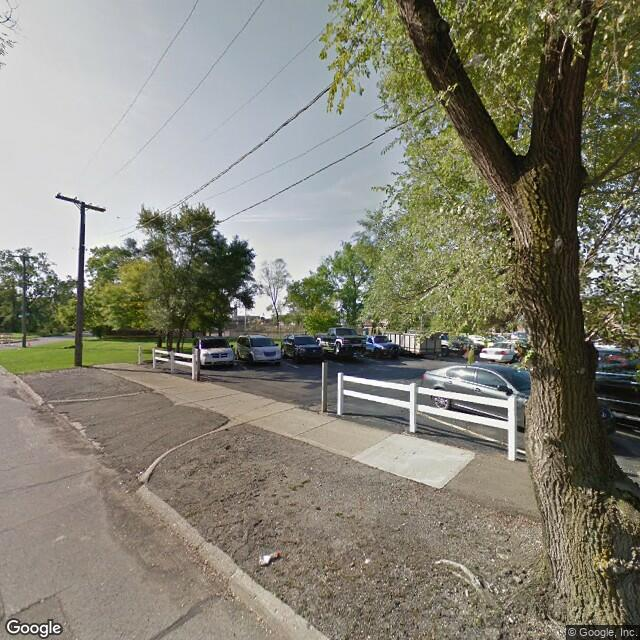litter: (259, 550, 284, 570), (361, 552, 373, 570)
